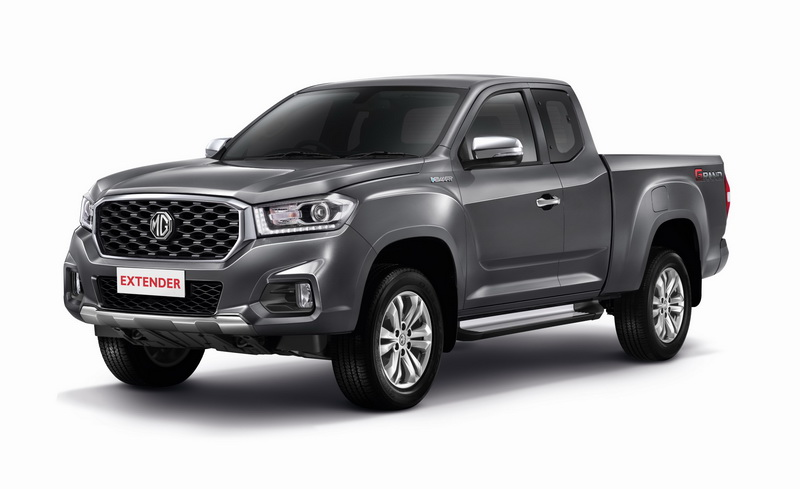pickup: (59, 71, 731, 417)
